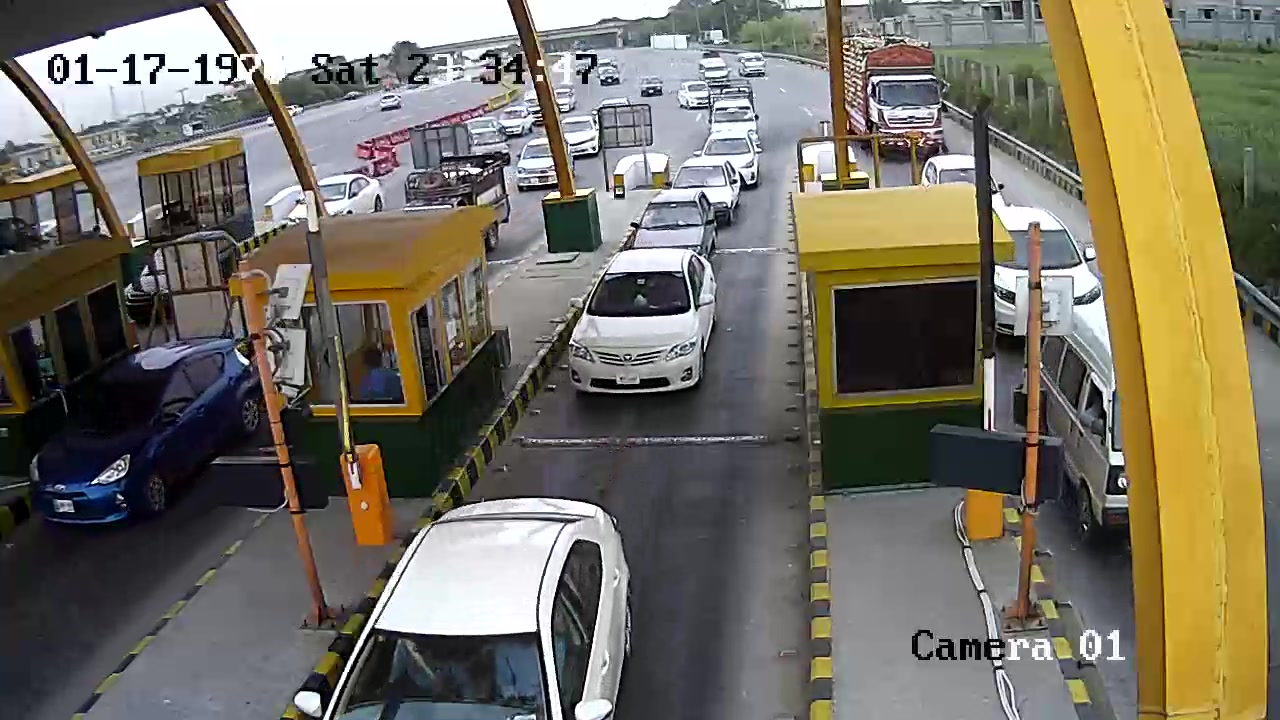F1: (562, 248, 732, 413)
